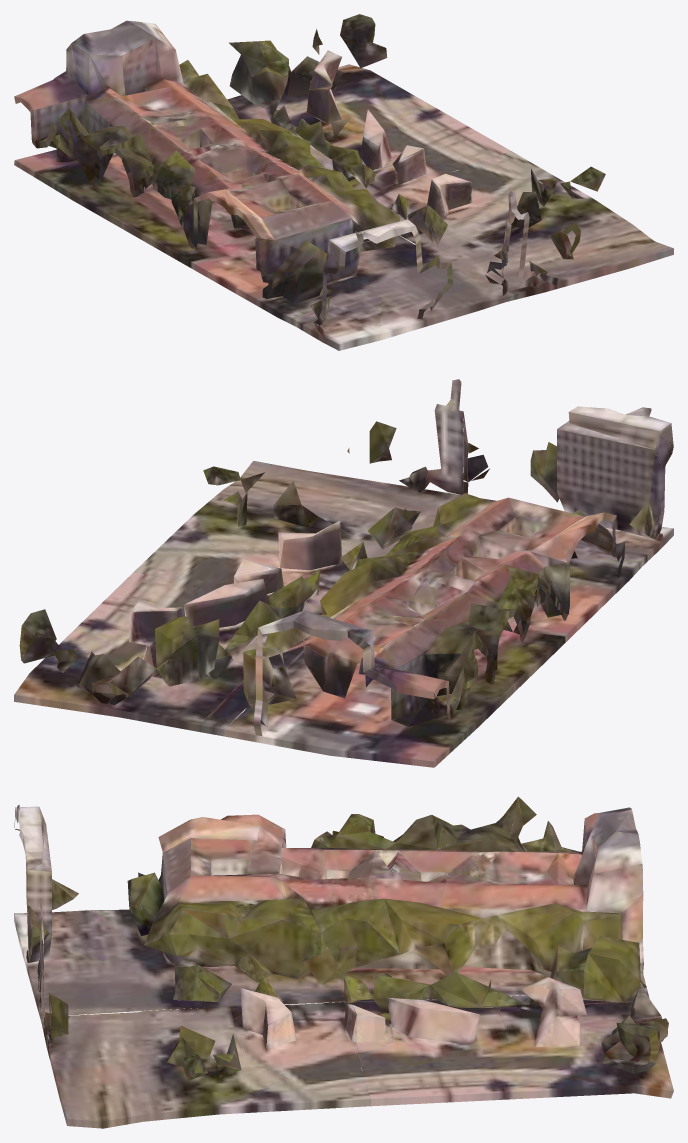
The picture shows the model from 3 angles, top to bottom: view 1: azimuth 30°, elevation 25°; view 2: azimuth 150°, elevation 25°; view 3: azimuth 270°, elevation 25°; orthographic projection. The views are drawn at different scales.
Visible parts, largest first — view 1: Mesh_0; view 2: Mesh_0; view 3: Mesh_0.
Part boxes in pixels (x1,y1,x2,y2): Mesh_0: (14, 14, 673, 350); Mesh_0: (14, 379, 673, 767); Mesh_0: (14, 796, 673, 1128).
Size of the model in its own units: 133 by 38.65 by 165.
2 materials, 2 textured.
